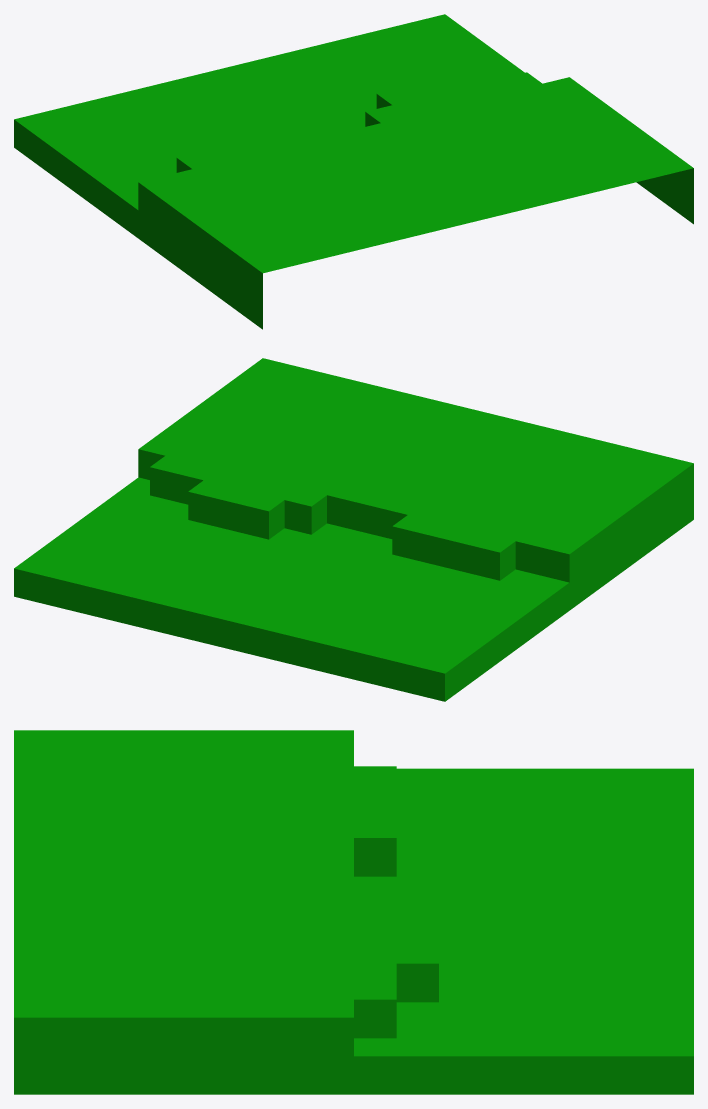
File: Straight6.fbx
3 renders of one model, top to bottom at view 1: azimuth 30°, elevation 25°; view 2: azimuth 150°, elevation 25°; view 3: azimuth 270°, elevation 25°, orthographic. The views are drawn at different scales.
Parts seen in each view (by area): view 1: Matrix; view 2: Matrix; view 3: Matrix.
Boxes of the visible parts, x1,y1,x2,y2 form: Matrix: [14, 14, 693, 329]; Matrix: [14, 358, 693, 701]; Matrix: [14, 730, 693, 1094].
Size of the model in its own units: 16 by 2 by 16.
Materials: 1 (1 with a texture image).
